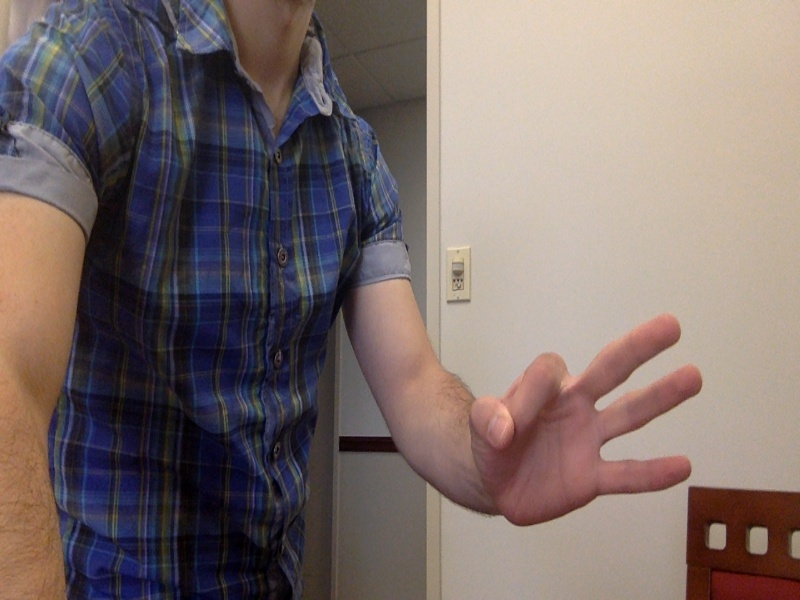3-hand: (468, 312, 708, 533)
